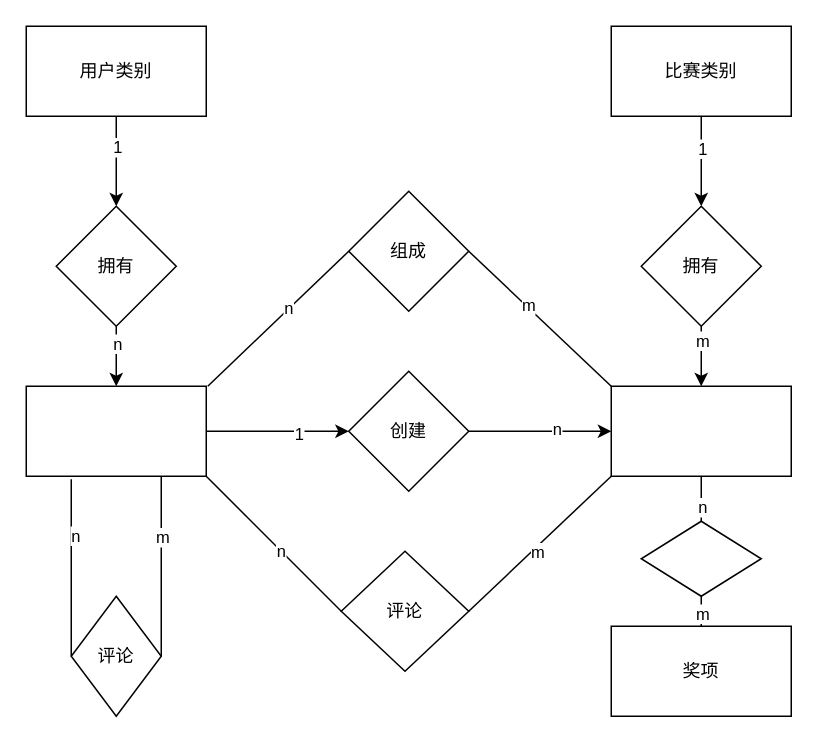
The diagram is 818 pixels wide and 743 high, and some of its shapes have lost their labels. The box of each missing label's shape, as (x1, y1, x2, y2) in pixels:
用户: (25, 385, 206, 476)
获得: (640, 520, 761, 596)
队伍: (610, 385, 791, 476)
